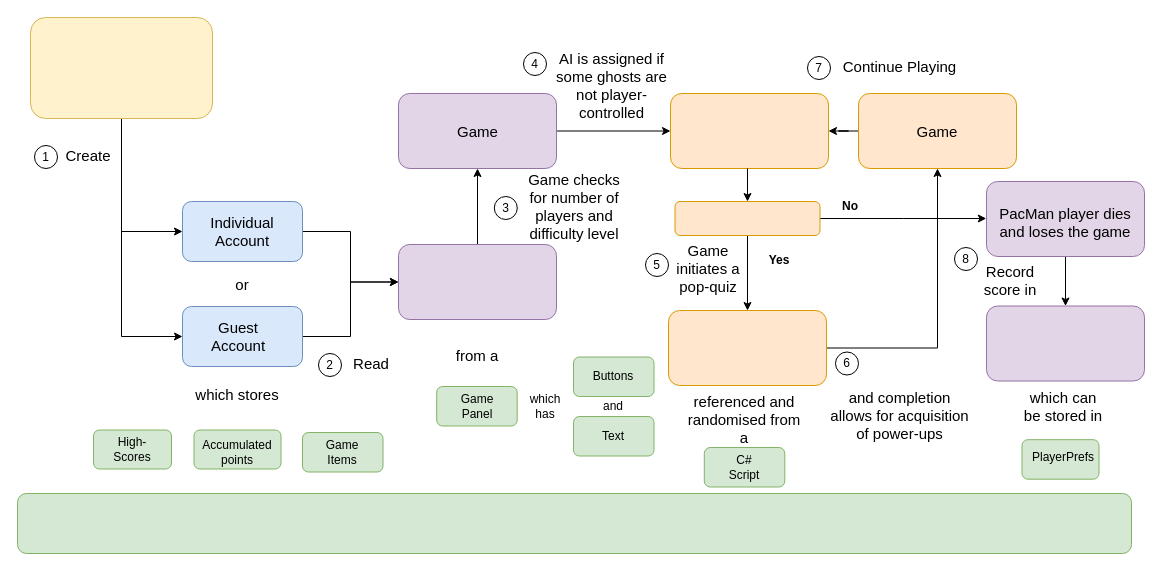
Image size: 1162x571. Some labels were removed from this diagram. The box of each missing label's shape, as (x1, y1, x2, y2) in pixels:
Checks if PacMan has any lives left: (674, 200, 820, 236)
Game Leaderboard: (986, 305, 1144, 381)
Game Manual: (398, 244, 556, 320)
PacMan player loses life/ progresses to next level: (670, 92, 828, 168)
Pop Quiz panel: (668, 310, 826, 386)
Start Game: (30, 16, 212, 118)
Unity: (16, 492, 1132, 554)
